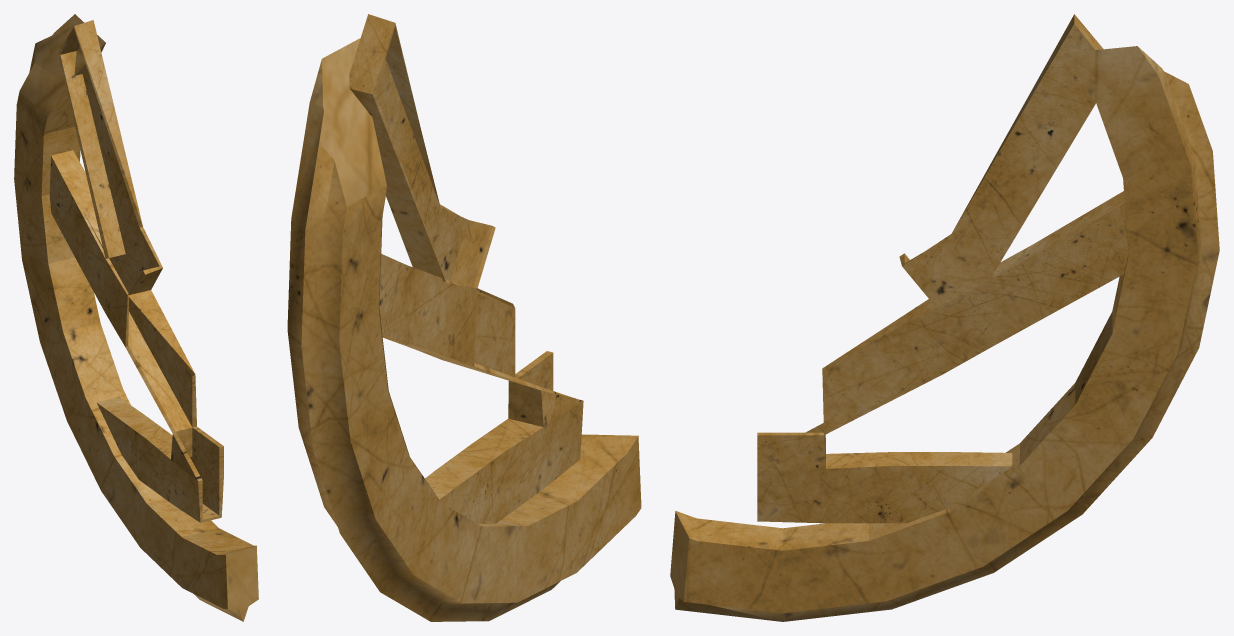
File: medalhaop2.fbx
The picture shows the model from 3 angles, left to right: view 1: azimuth 30°, elevation 25°; view 2: azimuth 150°, elevation 25°; view 3: azimuth 270°, elevation 25°; orthographic projection. The views are drawn at different scales.
Parts seen in each view (by area): view 1: shard7; view 2: shard7; view 3: shard7.
Boxes of the visible parts, left/top/right/bottom form: shard7: left=14, top=14, right=258, bottom=621; shard7: left=287, top=14, right=641, bottom=621; shard7: left=670, top=14, right=1219, bottom=621.
Size of the model in its own units: 0.2052 by 2.57 by 2.12.
Materials: 1 (1 with a texture image).
